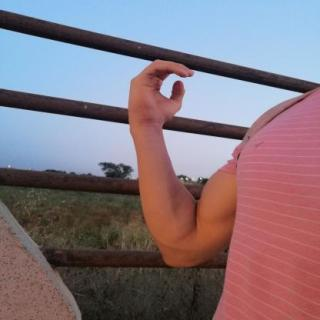JEEM: (118, 52, 204, 136)
